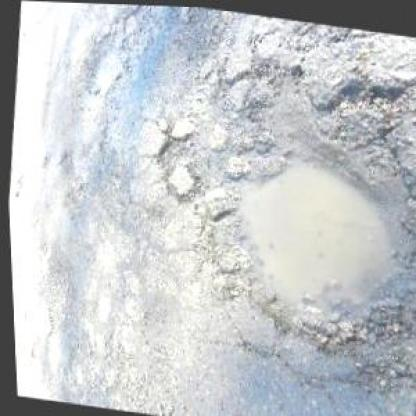pothole: (170, 50, 414, 367), (148, 122, 194, 173)
